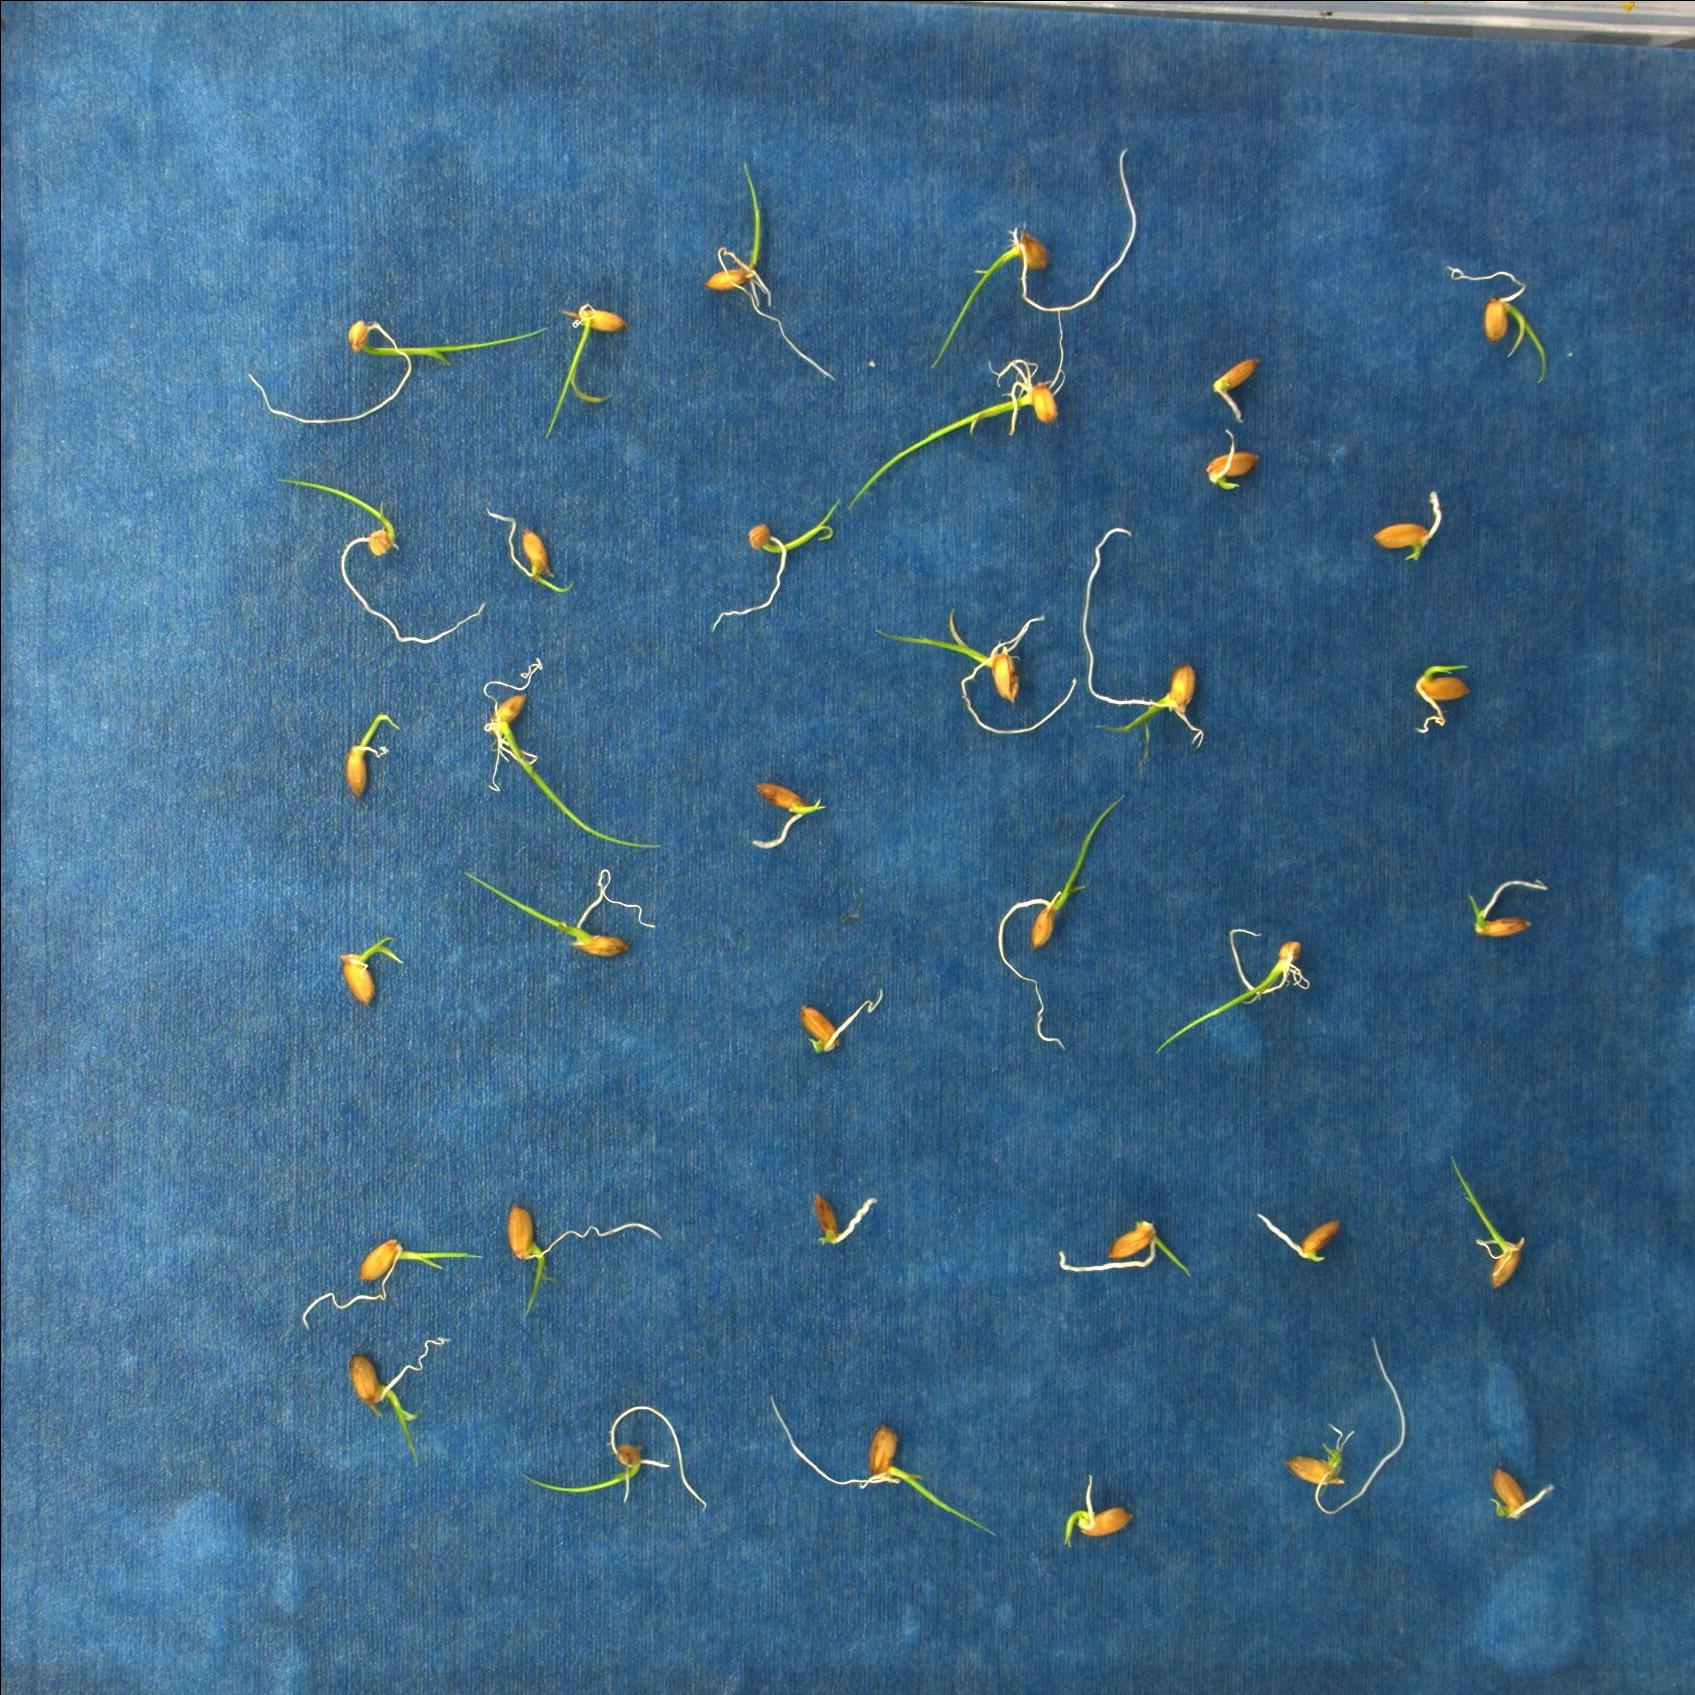not sprout: (799, 989, 883, 1055), (1256, 1212, 1344, 1263), (813, 1189, 880, 1245), (1212, 357, 1260, 425)
sprout: (930, 146, 1139, 371), (847, 312, 1065, 511), (276, 477, 487, 644), (484, 657, 663, 849), (997, 795, 1125, 1051), (245, 318, 549, 425), (768, 1395, 997, 1537), (702, 160, 840, 383), (1082, 526, 1205, 767), (875, 607, 1077, 734), (1285, 1336, 1408, 1516), (1155, 927, 1312, 1055), (520, 1405, 708, 1512), (506, 1203, 663, 1322), (709, 497, 843, 635), (466, 868, 658, 958), (303, 1237, 487, 1330), (348, 1335, 455, 1468), (1447, 265, 1548, 386), (545, 301, 629, 439), (1448, 1152, 1526, 1288), (1059, 1220, 1192, 1277), (487, 512, 576, 594), (1063, 1475, 1138, 1548), (750, 781, 826, 852), (1468, 879, 1549, 939), (1374, 490, 1440, 563), (345, 714, 400, 801), (340, 938, 404, 1006), (1412, 664, 1471, 736), (1489, 1465, 1554, 1523), (1208, 428, 1262, 490)
